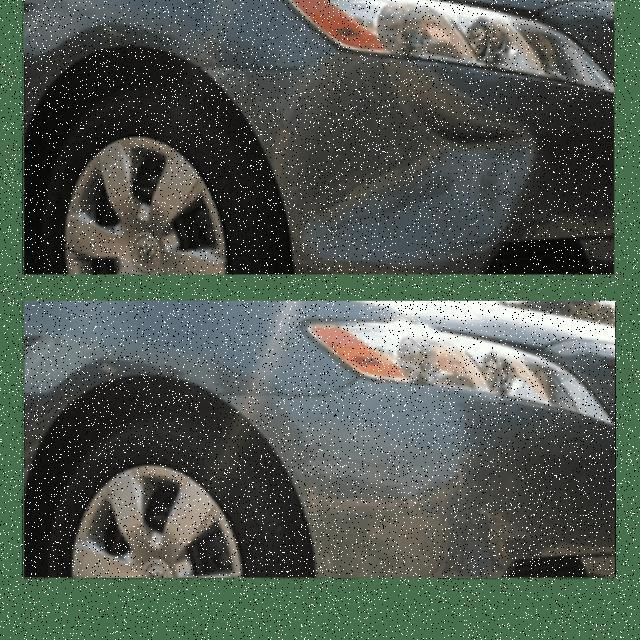front-bumper-dent: (255, 48, 637, 286)
